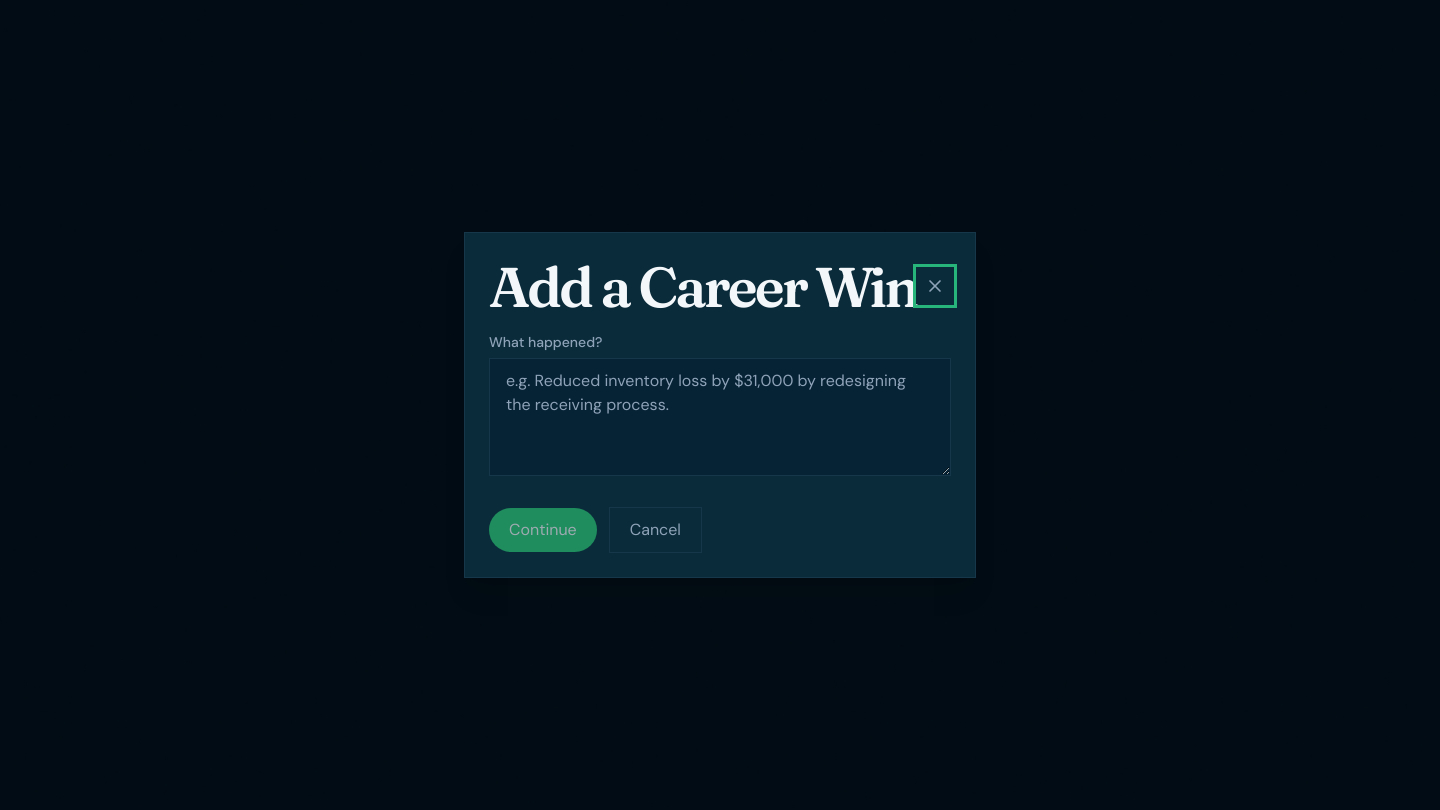
Test: AddCareerWinModal › locks the metric checkbox and role select once the win is saved, so a retry cannot silently discard an edit the win-scoped fields no longer apply to (fix round
Step 1. Replace the text in the text box labelled "What happened?" with "Reduced inventory loss by $31,000." → (720, 417), box [489,358,951,476]
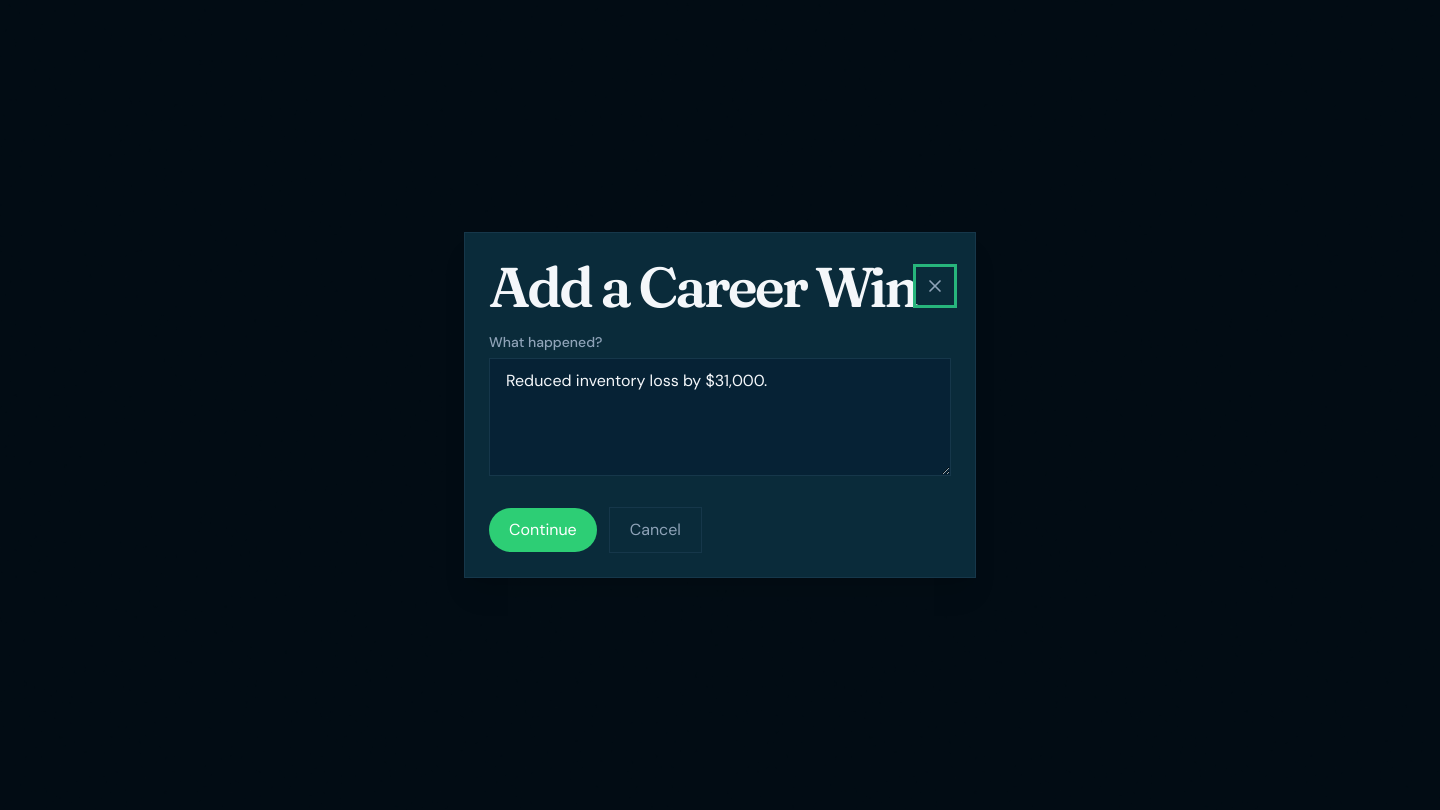
Step 2. Click the button "Continue" → click(543, 530), box [489,508,597,552]
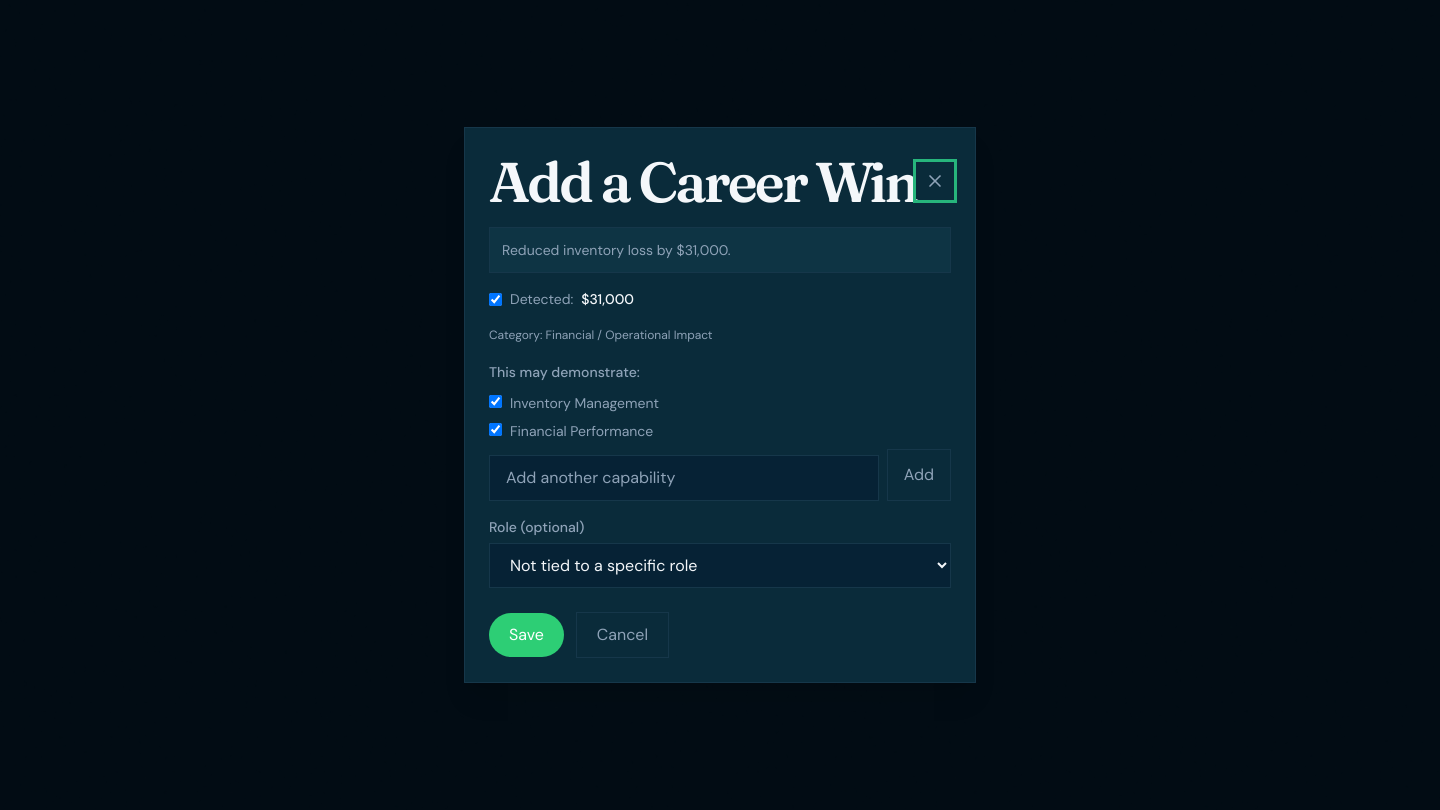
Expected: the text "$31,000" is shown, [581,289,634,309]
Step 3. Click the button "Save" → click(526, 635), box [489,613,564,657]
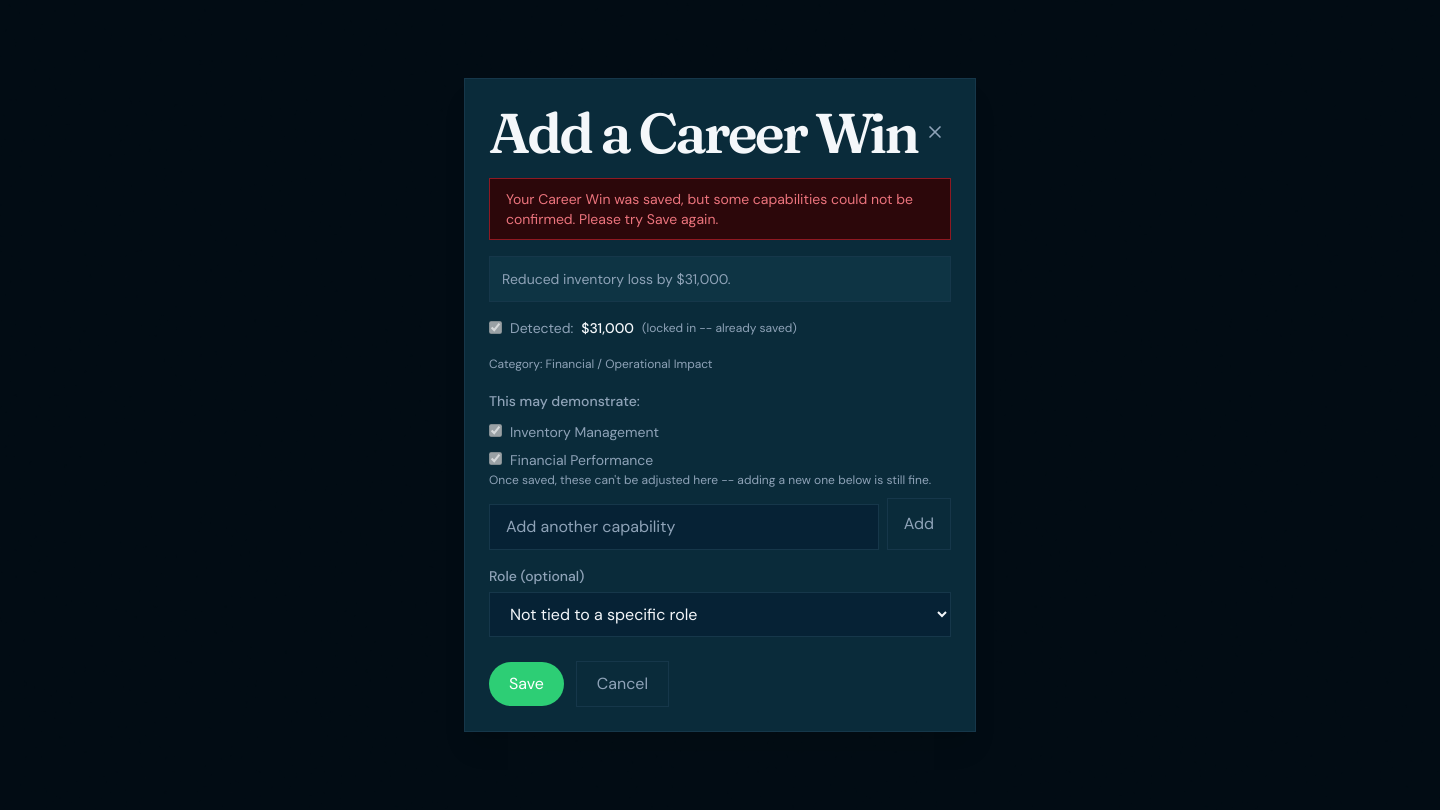
Expected: the text "could not be confirmed" is shown, [506,190,913,228]
Expected: the checkbox named "include this metric" is disabled, [489,321,502,334]
Expected: the dropdown labelled "Role (optional)" is disabled, [489,592,951,638]
